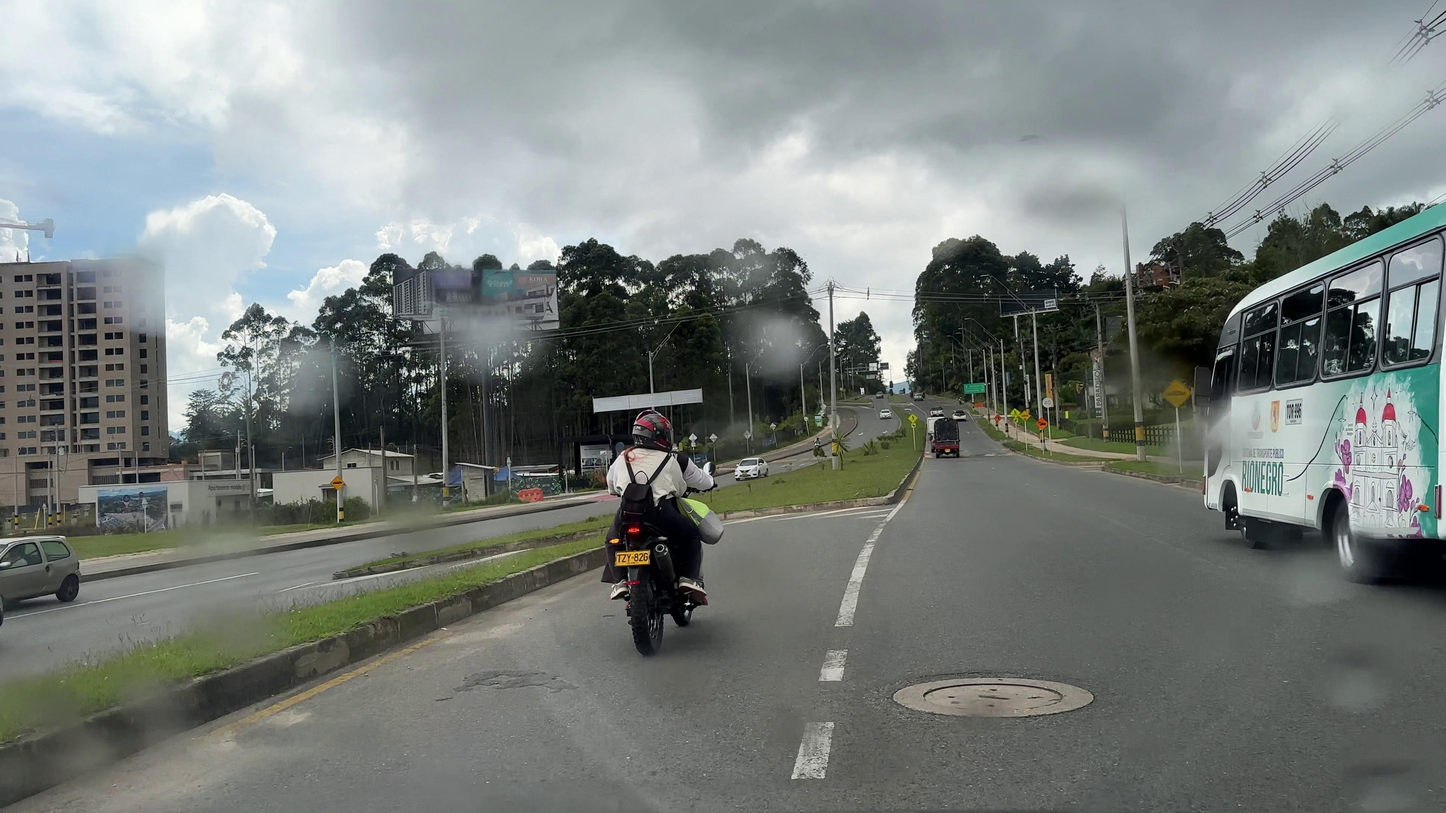bache: (454, 670, 577, 694)
registro: (924, 683, 1064, 710)
